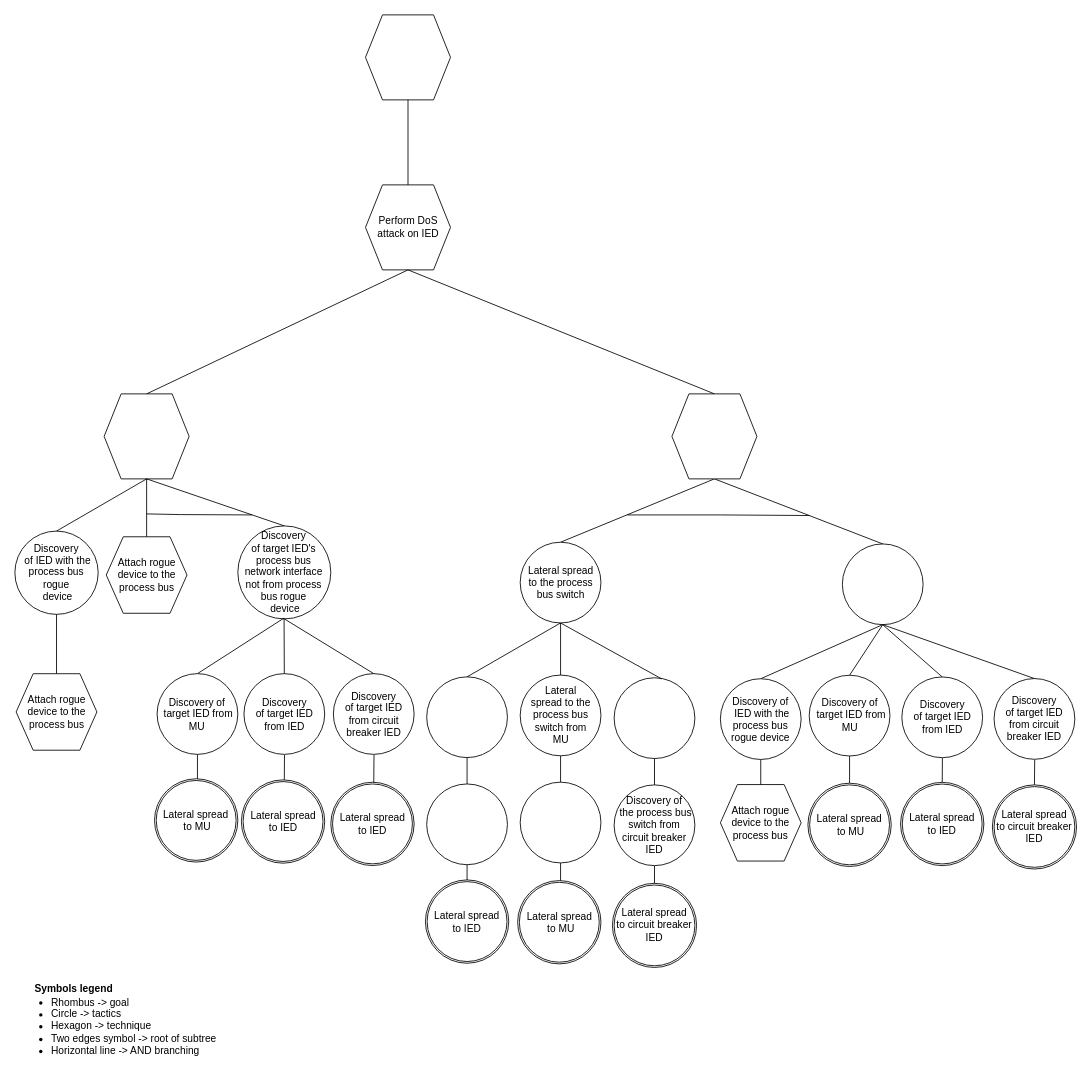
The diagram is 1091 pixels wide and 1087 high, and some of its shapes have lost their labels. Each missing label, with the centre of its shape:
Discovery of target IED's process bus network interface: (x=882, y=584)
Discovery of the proces bus switch from IED: (x=466, y=824)
Discovery of the proces bus switch from MU: (x=560, y=822)
Lateral spread to the process bus switch from circuit breaker IED: (x=654, y=718)
Lateral spread to the process bus switch from IED: (x=466, y=717)
Perform DoS attack: (x=407, y=57)
Perform DoS attack on IED from from process bus switch: (x=714, y=436)
Perform DoS attack on the IED with the process bus rogue device: (x=146, y=436)
